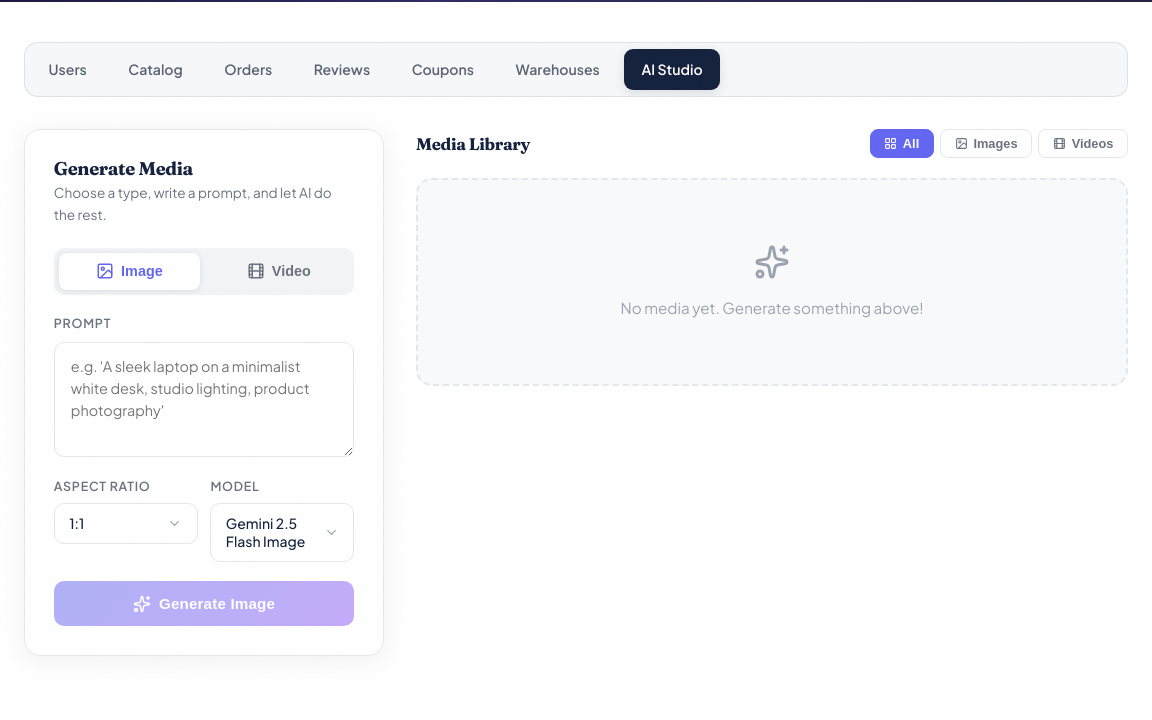
Test: AdminAiStudioPage — dropdowns render › closes the dropdown when clicking an option
The image size is (1152, 720).
(page scrolled)
Expected: the text "Aspect Ratio" is shown, top-left (54, 478), bottom-right (151, 494)
Click the button "1:1".
click(126, 523)  # box top-left (54, 503), bottom-right (198, 544)
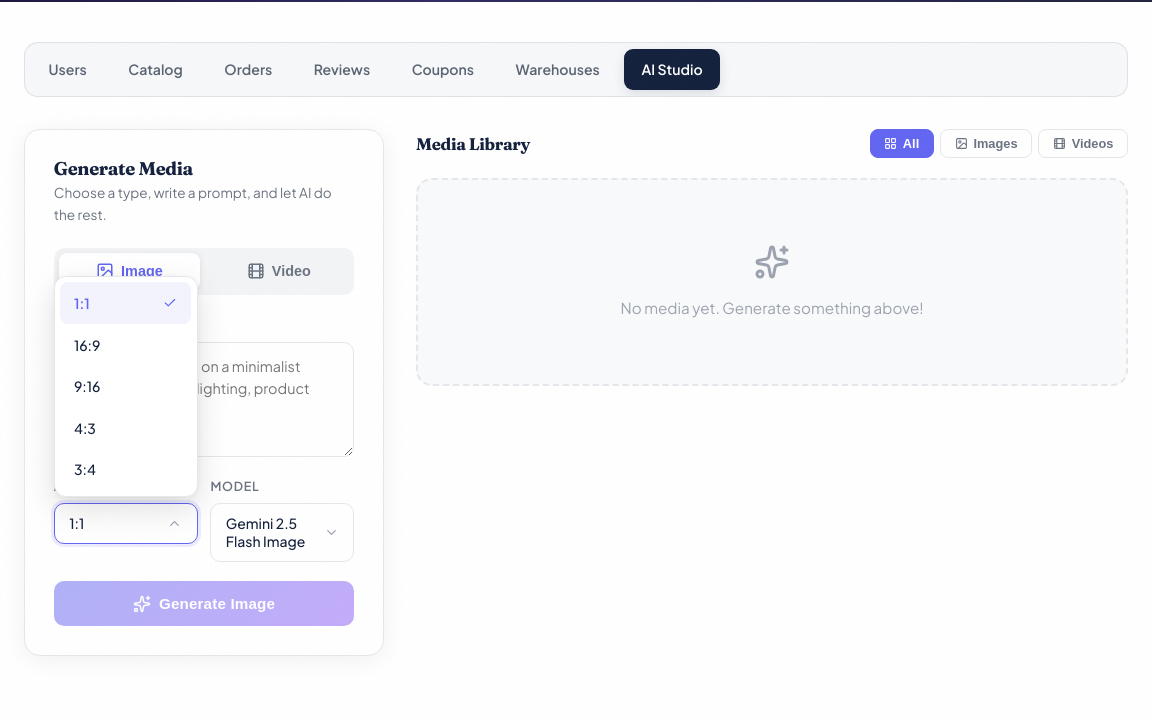
Click the option "16:9".
click(87, 345)  # box top-left (74, 336), bottom-right (100, 354)
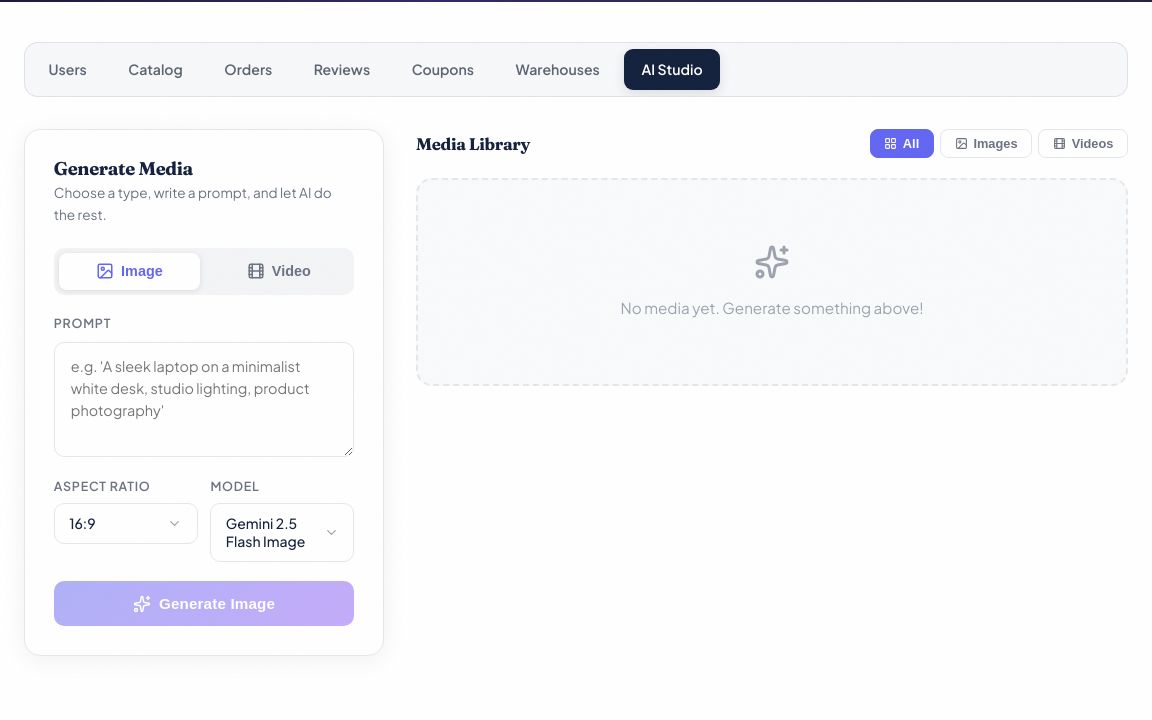
Result: the list is gone
